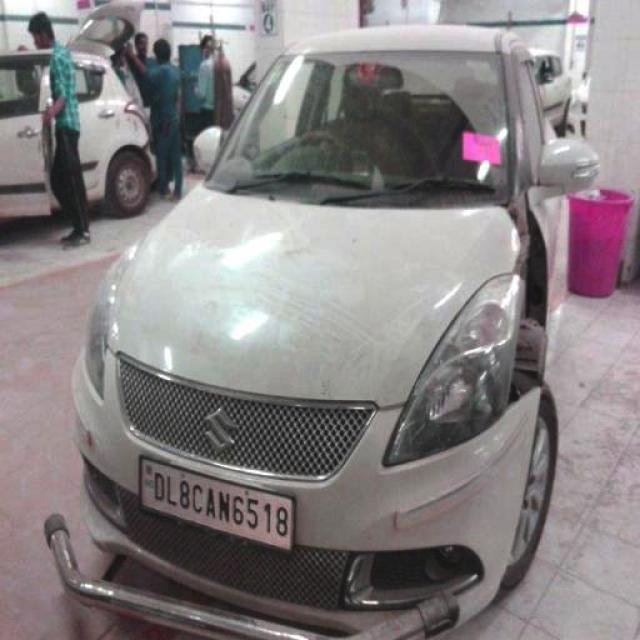car damage: (505, 193, 558, 412)
